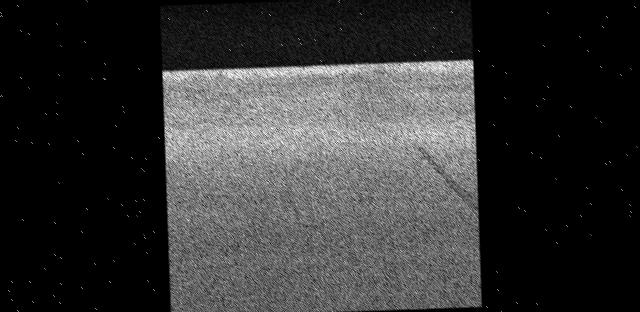water_spot: (402, 130, 478, 226)
